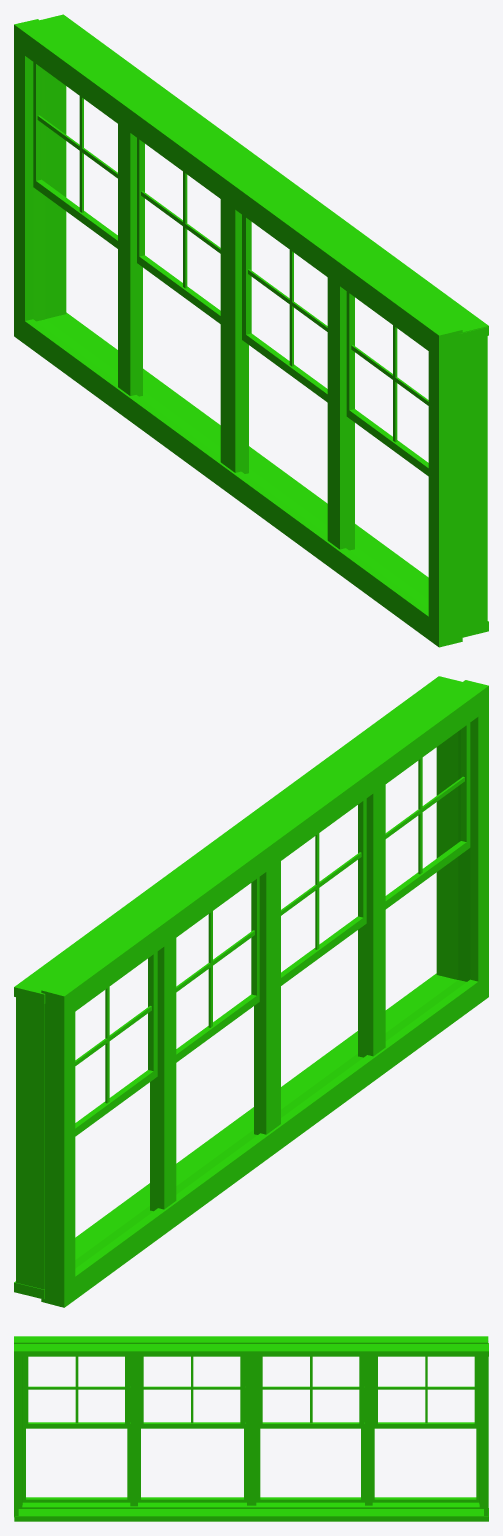
Rendered from Window_C_03_Lod0.fbx.
3 renders of one model, top to bottom at view 1: azimuth 30°, elevation 25°; view 2: azimuth 150°, elevation 25°; view 3: azimuth 270°, elevation 25°, orthographic. The views are drawn at different scales.
Parts seen in each view (by area): view 1: Window_C_03_Lod0; view 2: Window_C_03_Lod0; view 3: Window_C_03_Lod0.
Boxes of the visible parts, left/top/right/bottom form: Window_C_03_Lod0: left=14, top=14, right=488, bottom=647; Window_C_03_Lod0: left=14, top=676, right=488, bottom=1307; Window_C_03_Lod0: left=14, top=1336, right=488, bottom=1521.
Bounding box in the file's own units: 23.29 × 139 × 343.
